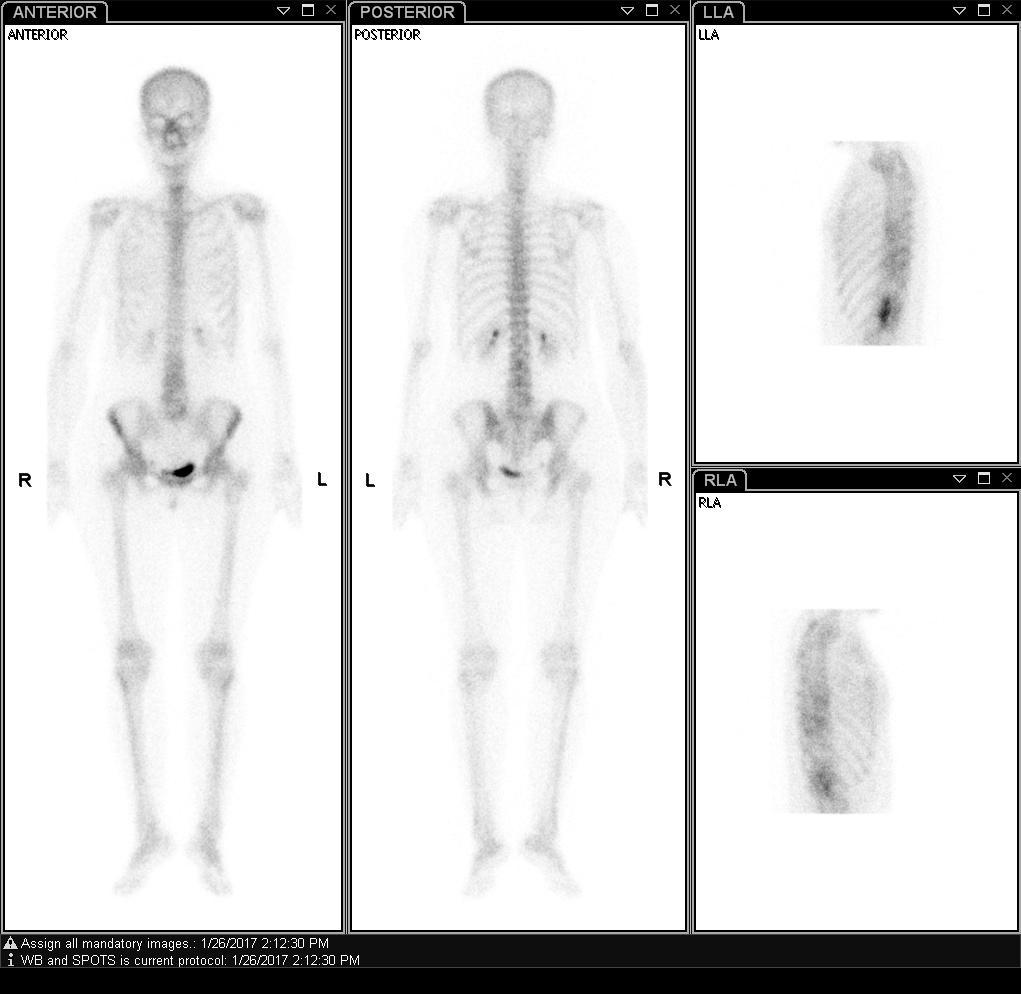person: (4, 23, 684, 935)
